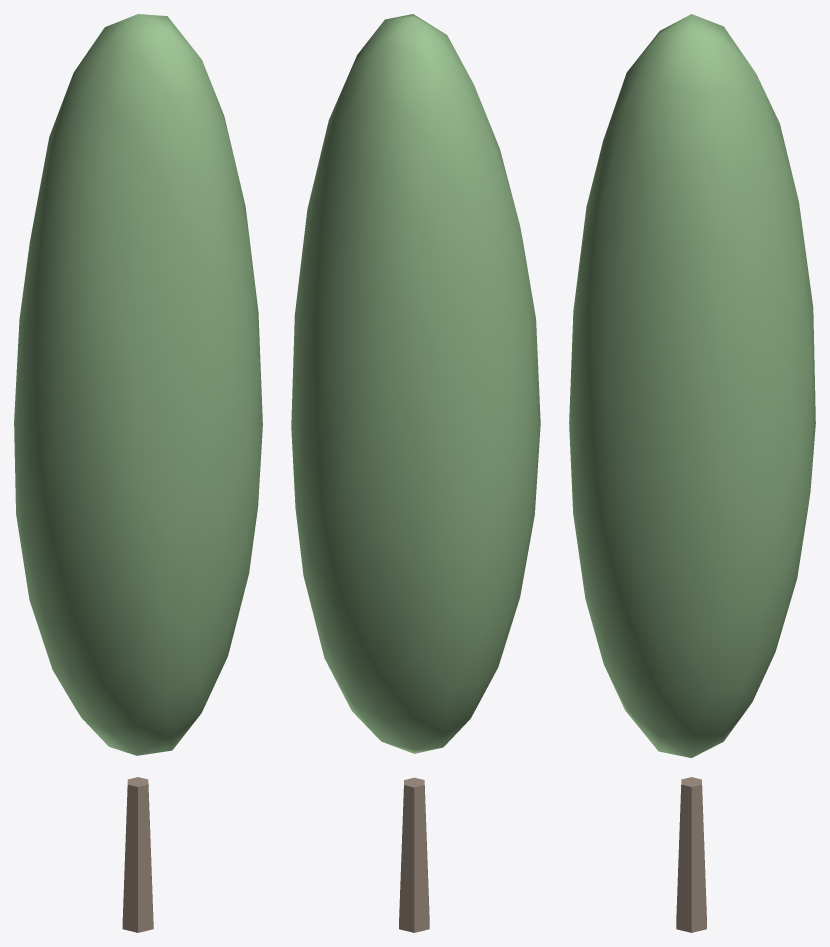
The model's file is tree-conifer-d.glb.
3 views of the same model, side by side, from view 1: azimuth 30°, elevation 25°; view 2: azimuth 150°, elevation 25°; view 3: azimuth 270°, elevation 25° (orthographic).
Visible parts, largest first — view 1: tree-conifer-d; view 2: tree-conifer-d; view 3: tree-conifer-d.
Boxes of the visible parts, x1,y1,x2,y2 form: tree-conifer-d: (14, 14, 262, 932); tree-conifer-d: (291, 14, 540, 932); tree-conifer-d: (569, 14, 815, 932).
Size of the model in its own units: 0.25 by 1 by 0.2453.
